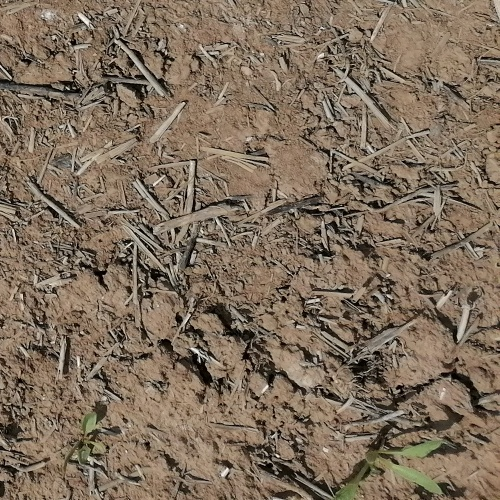beet: (335, 436, 445, 500), (63, 408, 101, 472)
